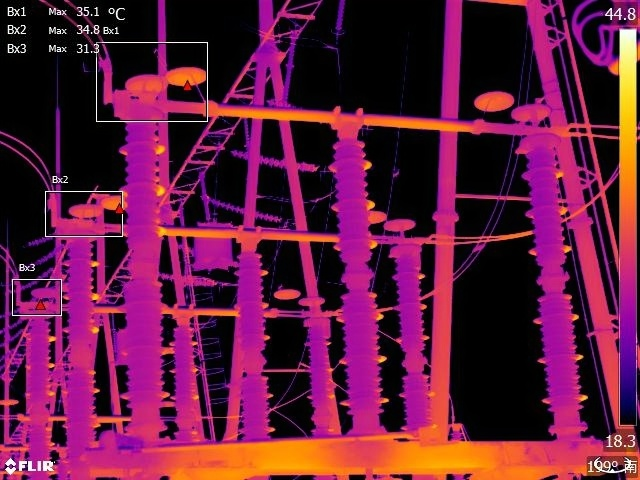insulator: (230, 145, 319, 172), (208, 195, 284, 222), (159, 271, 222, 289)
post insulator: (512, 132, 590, 436), (116, 111, 175, 437), (326, 129, 389, 423), (63, 232, 110, 445), (237, 244, 280, 440), (390, 246, 432, 434), (20, 313, 62, 473), (302, 320, 340, 438), (168, 321, 196, 438)
switch: (107, 55, 569, 144), (48, 189, 422, 258), (26, 279, 326, 325)
wave trap: (187, 217, 240, 272)
